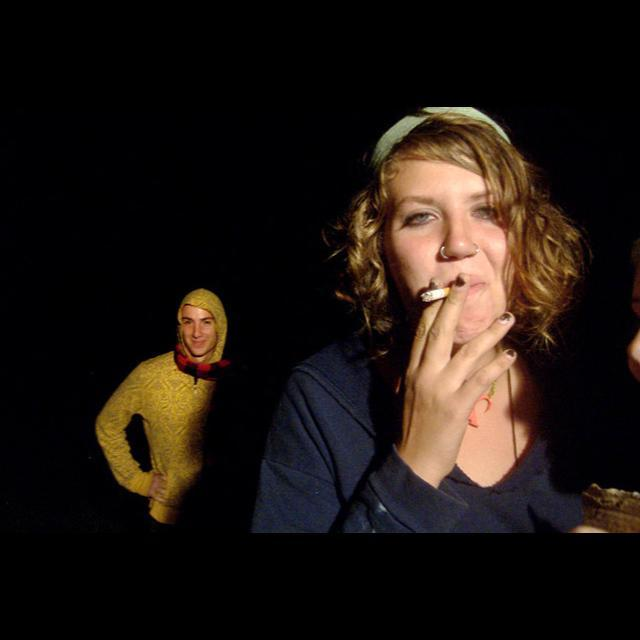rokok: (415, 282, 455, 306)
